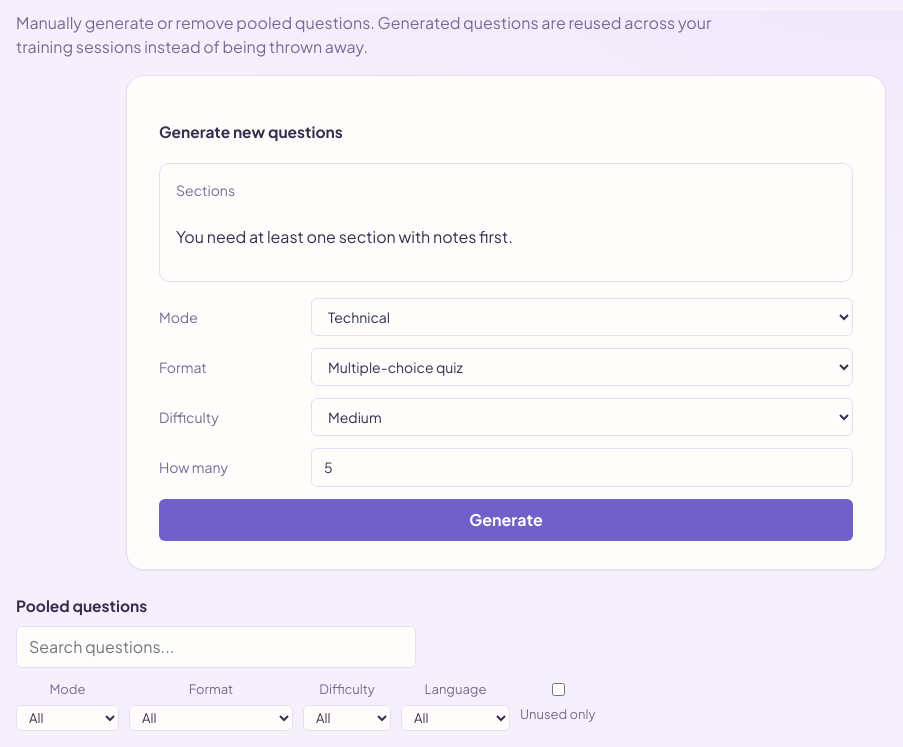
Test: QuestionBankScreen › generating without selecting a section shows a validation error and makes no request
Click the button "Generate" at [506, 520], box x1=159 y1=499 x2=853 y2=541
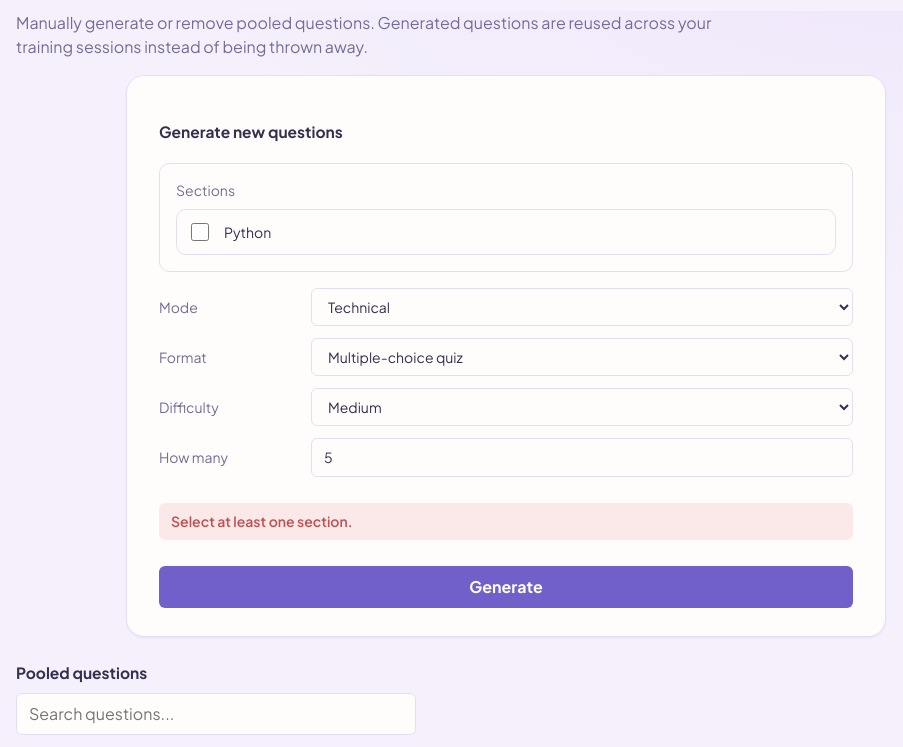
Expected: the text "Select at least one section." is shown, x1=159 y1=503 x2=853 y2=540
